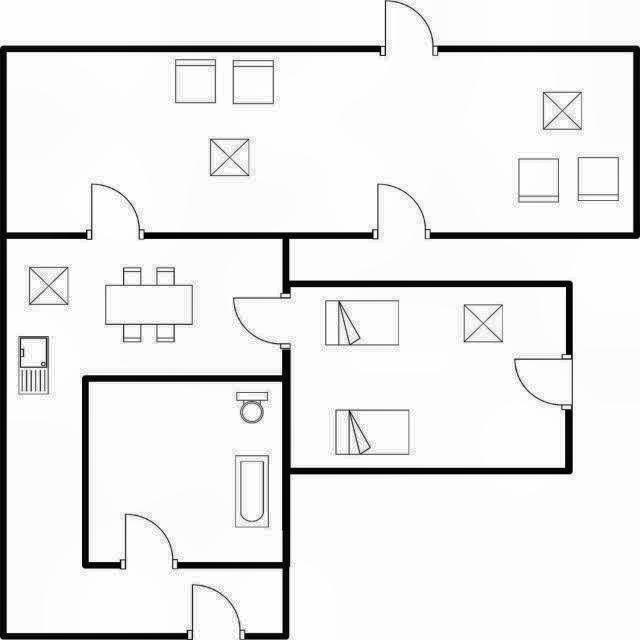room: (7, 54, 632, 231), (7, 240, 282, 633), (291, 289, 565, 465), (89, 382, 281, 562)
